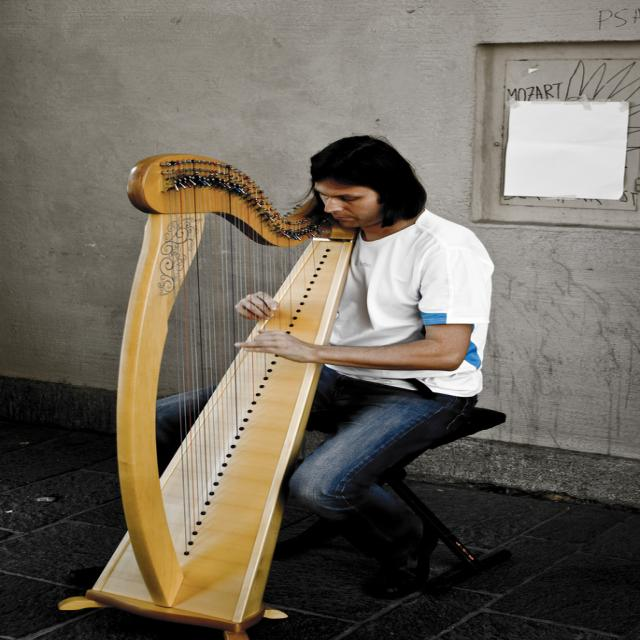harp: (56, 152, 356, 639)
